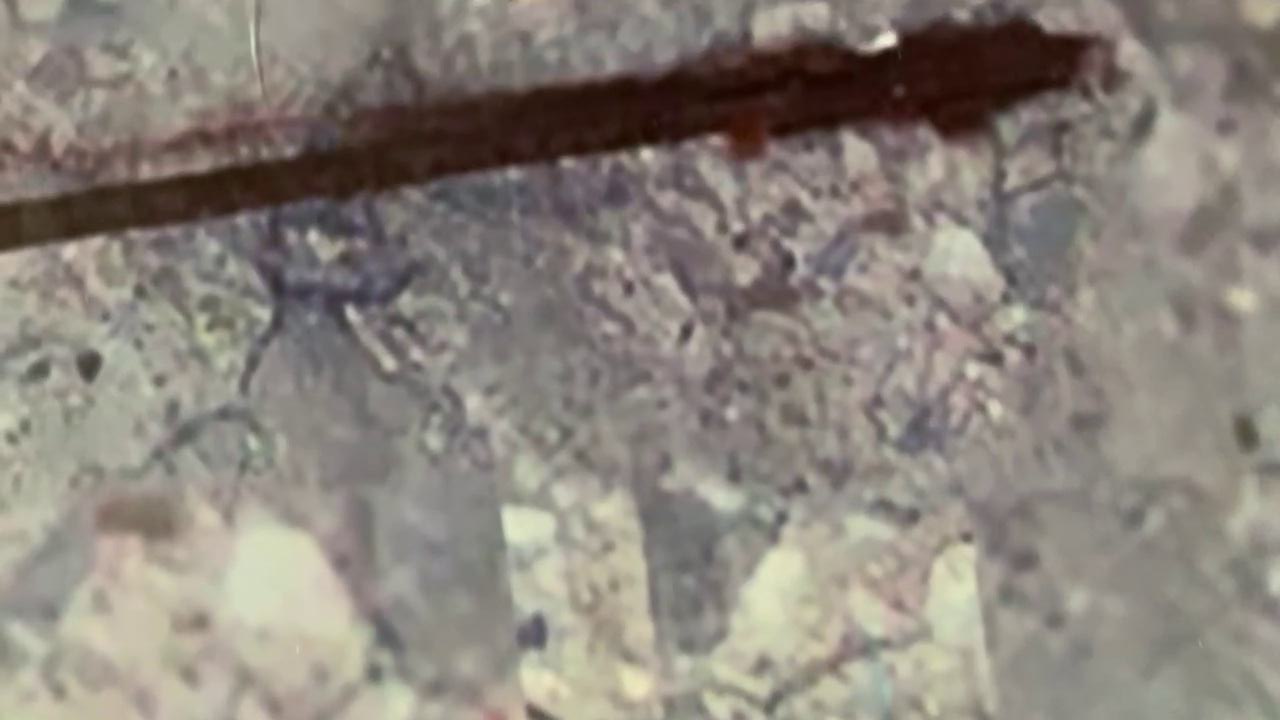Exposed reinforcement: (1, 18, 1103, 258)
